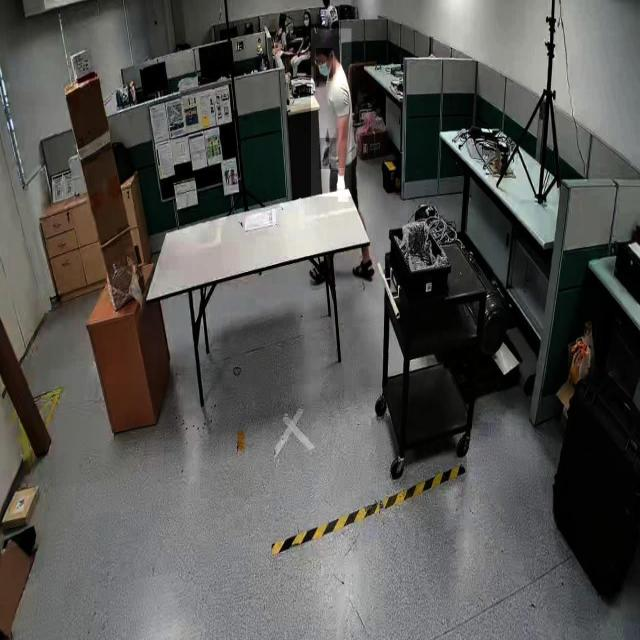face_mask: (316, 48, 334, 82)
hand_glove: (319, 138, 337, 170), (338, 168, 349, 203)
head_nohelmet: (310, 27, 336, 47), (278, 12, 286, 18), (302, 10, 310, 14)
person: (311, 29, 352, 198)
